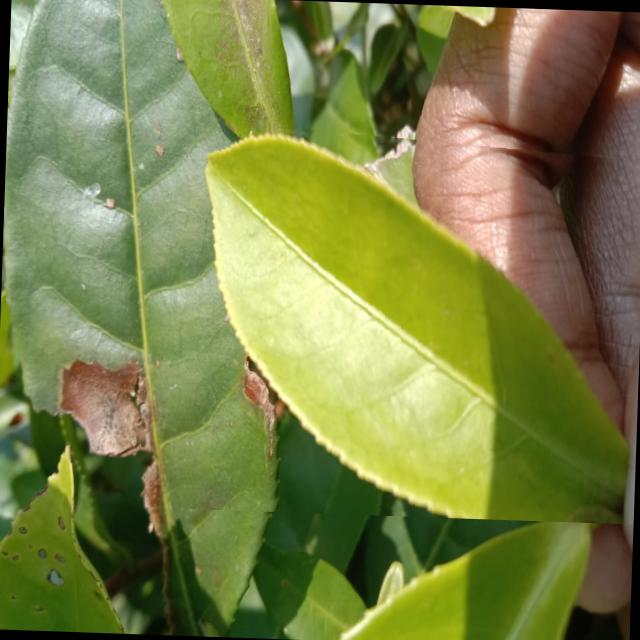Category B(2-4 days): (180, 117, 640, 523)
